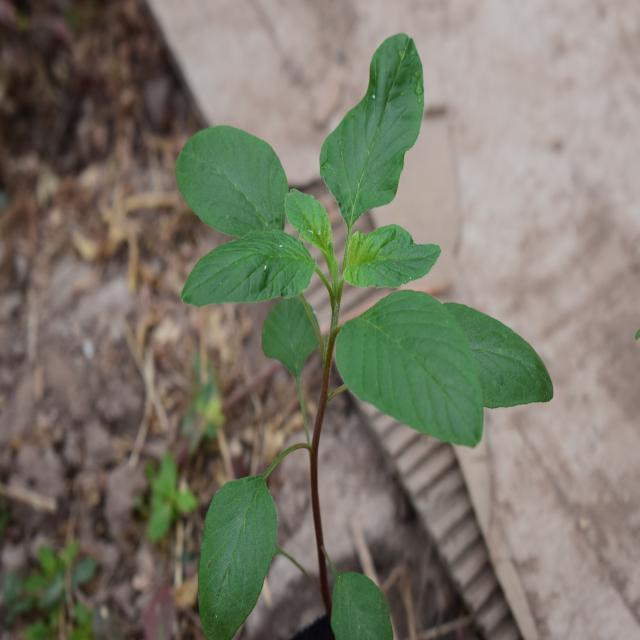pigweed: (152, 26, 533, 503)
